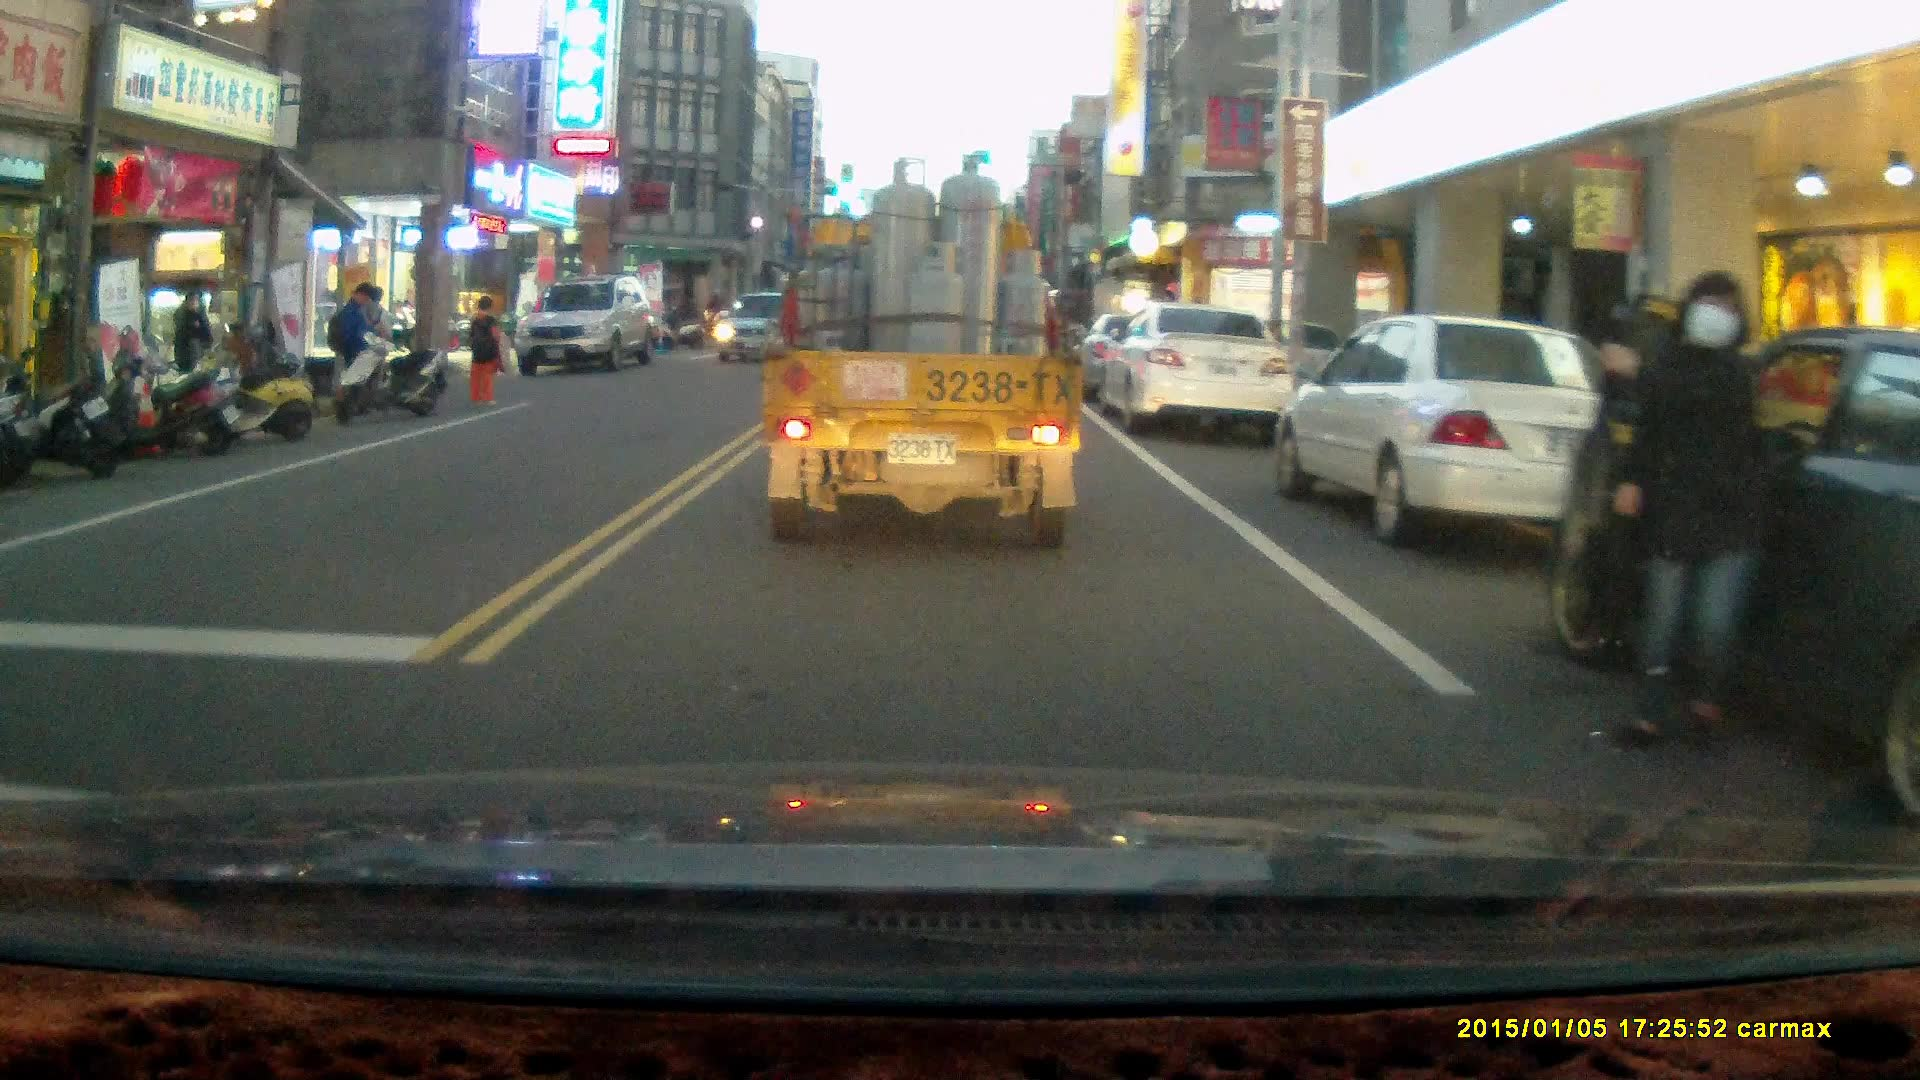pedestrian: (1600, 270, 1768, 754), (321, 280, 375, 412), (170, 285, 213, 421), (466, 292, 507, 408)
vehicle: (1544, 321, 1920, 791), (756, 151, 1088, 549), (1269, 314, 1666, 547), (1101, 304, 1293, 432), (517, 278, 662, 374), (713, 290, 804, 366)
